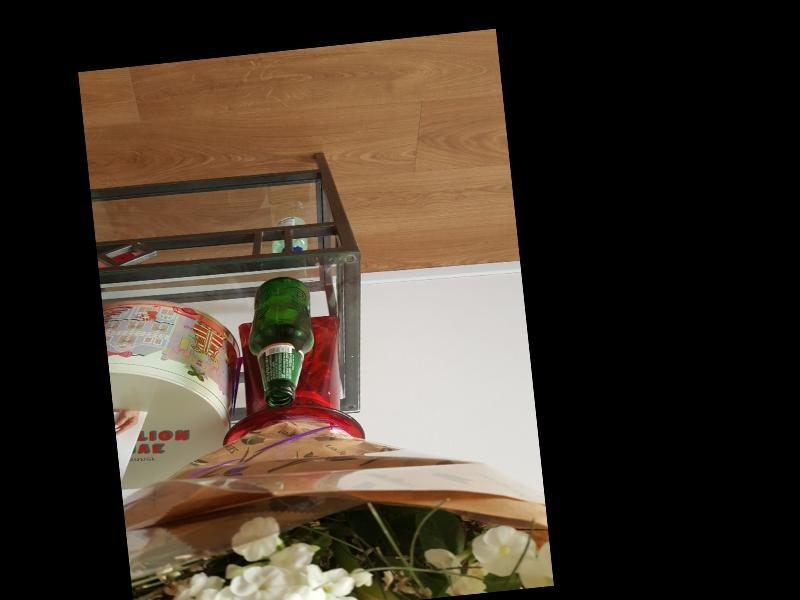Beer: (241, 273, 321, 408)
